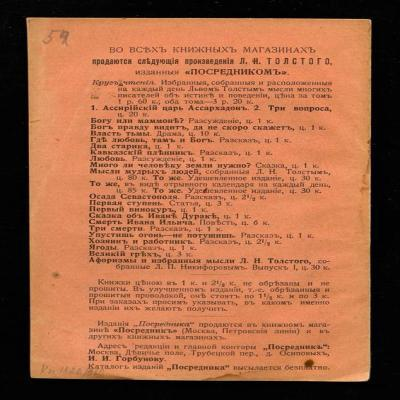rare_books: (25, 17, 382, 384)
